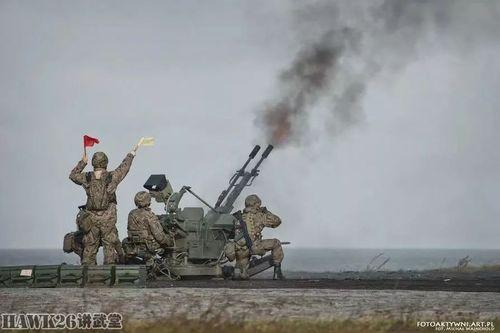MIL_SPG: (123, 145, 273, 279)
